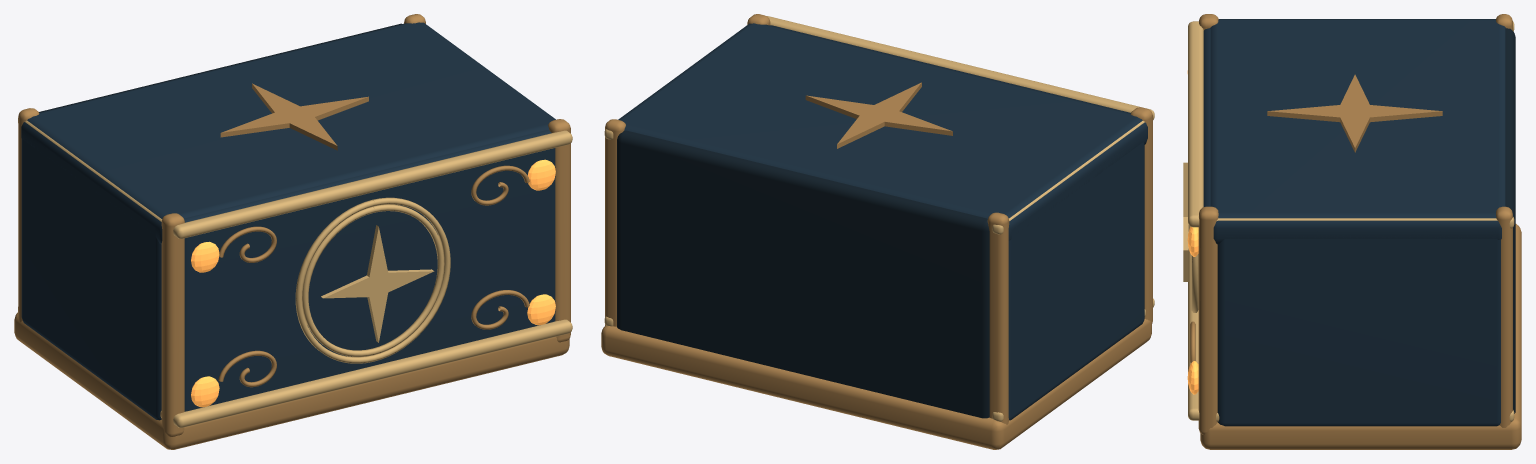
The model's file is deck-movies-v1.glb.
3 renders of one model, left to right at view 1: azimuth 30°, elevation 25°; view 2: azimuth 150°, elevation 25°; view 3: azimuth 270°, elevation 25°, orthographic. The views are drawn at different scales.
Parts seen in each view (by area): view 1: Lid leather, Front leather, Left leather, Base, Front milled edge.001, Front milled edge, Bronze corner, Cast medallion.001, Bronze corner.001, Lid outer celestial crest, Cast medallion, Sun crest (+9 smaller); view 2: Back, Lid leather, Left leather, Base, Rear corner, Front milled edge.001, Lid outer celestial crest, Rear corner.001, Bronze corner, Side milled edge.002; view 3: Lid leather, Right leather, Base, Bronze corner.001, Front milled edge.001, Lid outer celestial crest, Rear corner.001, Back, Front leather, Front milled edge, Side milled edge.003, Sun crest (+1 smaller).
Boxes of the visible parts, box(x1,y1,x2,y2) form: Lid leather: box(21, 22, 555, 244); Front leather: box(184, 130, 555, 411); Left leather: box(21, 131, 161, 420); Base: box(14, 312, 569, 449); Front milled edge.001: box(173, 130, 572, 238); Front milled edge: box(173, 319, 572, 427); Bronze corner: box(161, 213, 184, 437); Cast medallion.001: box(295, 197, 450, 363); Bronze corner.001: box(548, 119, 570, 342); Lid outer celestial crest: box(220, 83, 368, 150); Cast medallion: box(302, 204, 444, 356); Sun crest: box(321, 225, 434, 342); Back: box(617, 130, 989, 418); Lid leather: box(618, 23, 1147, 240); Left leather: box(1008, 139, 1144, 420); Base: box(601, 319, 1151, 449); Rear corner: box(987, 212, 1009, 424); Front milled edge.001: box(766, 16, 1154, 119); Lid outer celestial crest: box(805, 82, 952, 148); Rear corner.001: box(605, 119, 625, 326); Bronze corner: box(1130, 107, 1152, 323); Side milled edge.002: box(992, 121, 1144, 234); Lid leather: box(1210, 19, 1505, 244); Right leather: box(1217, 230, 1500, 426); Base: box(1200, 224, 1521, 449); Bronze corner.001: box(1198, 206, 1218, 434); Front milled edge.001: box(1188, 21, 1203, 227); Lid outer celestial crest: box(1267, 74, 1442, 152); Rear corner.001: box(1496, 206, 1512, 427); Back: box(1505, 28, 1515, 413); Front leather: box(1203, 28, 1210, 206); Front milled edge: box(1188, 225, 1199, 420); Side milled edge.003: box(1217, 217, 1514, 228); Sun crest: box(1183, 162, 1188, 281).
Bounding box in the file's own units: 1.64 × 0.91 × 1.16.
